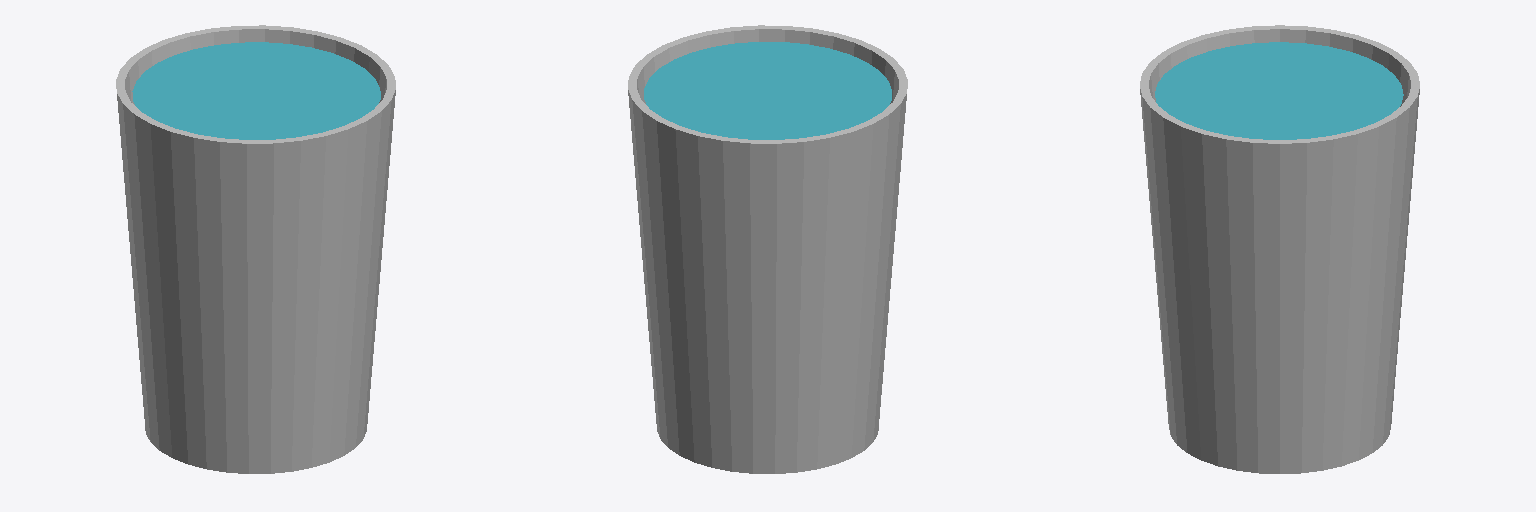
File: glass.obj
3 views of the same model, side by side, from view 1: azimuth 30°, elevation 25°; view 2: azimuth 150°, elevation 25°; view 3: azimuth 270°, elevation 25° (orthographic).
Parts seen in each view (by area): view 1: main_glass, Cylinder; view 2: main_glass, Cylinder; view 3: main_glass, Cylinder.
Part boxes in pixels (left/top/right/bottom): main_glass: left=116, top=25, right=395, bottom=473; Cylinder: left=132, top=42, right=380, bottom=139; main_glass: left=628, top=25, right=907, bottom=473; Cylinder: left=644, top=42, right=891, bottom=139; main_glass: left=1140, top=25, right=1419, bottom=473; Cylinder: left=1155, top=42, right=1403, bottom=139.
Size of the model in its own units: 0.0631 by 0.085 by 0.0631.